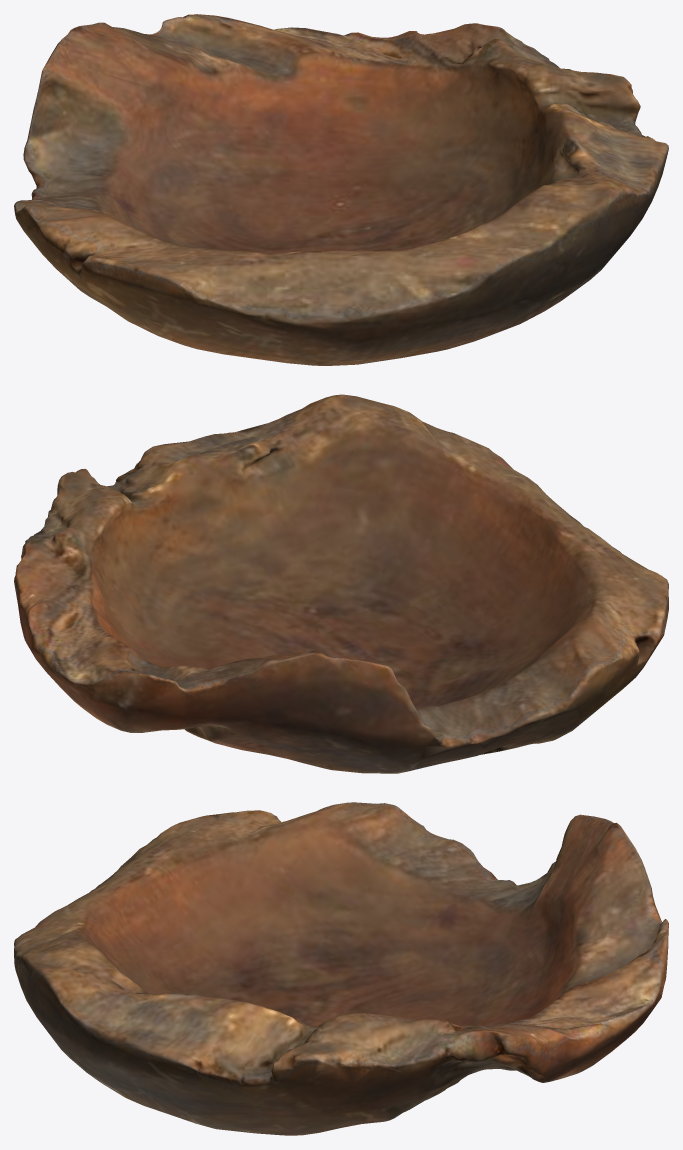
File: wooden_bowl_01.glb
3 renders of one model, top to bottom at view 1: azimuth 30°, elevation 25°; view 2: azimuth 150°, elevation 25°; view 3: azimuth 270°, elevation 25°, orthographic. The views are drawn at different scales.
Visible parts, largest first — view 1: wooden_bowl_01; view 2: wooden_bowl_01; view 3: wooden_bowl_01.
Part boxes in pixels (box(x1,y1,x2,y2)): wooden_bowl_01: box(14, 14, 668, 365); wooden_bowl_01: box(14, 394, 668, 773); wooden_bowl_01: box(14, 802, 668, 1135).
Bounding box in the file's own units: 0.313 × 0.0937 × 0.3091.
1 material, 1 textured.
